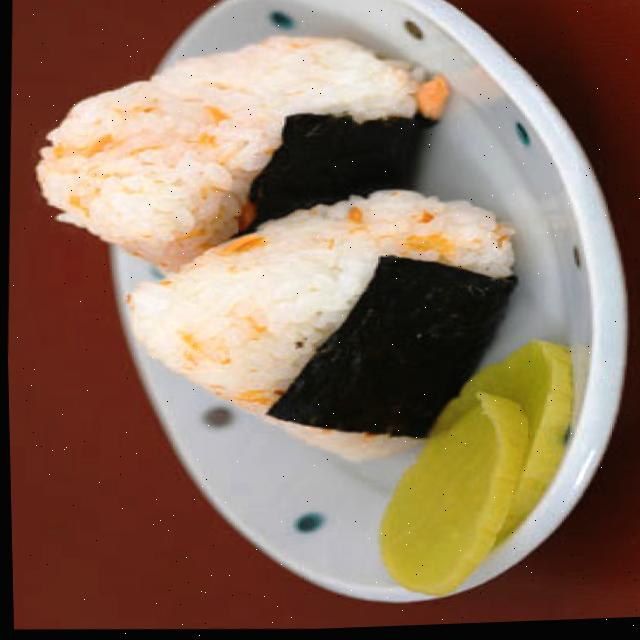米饭主食: (100, 162, 530, 485), (11, 12, 458, 288)
